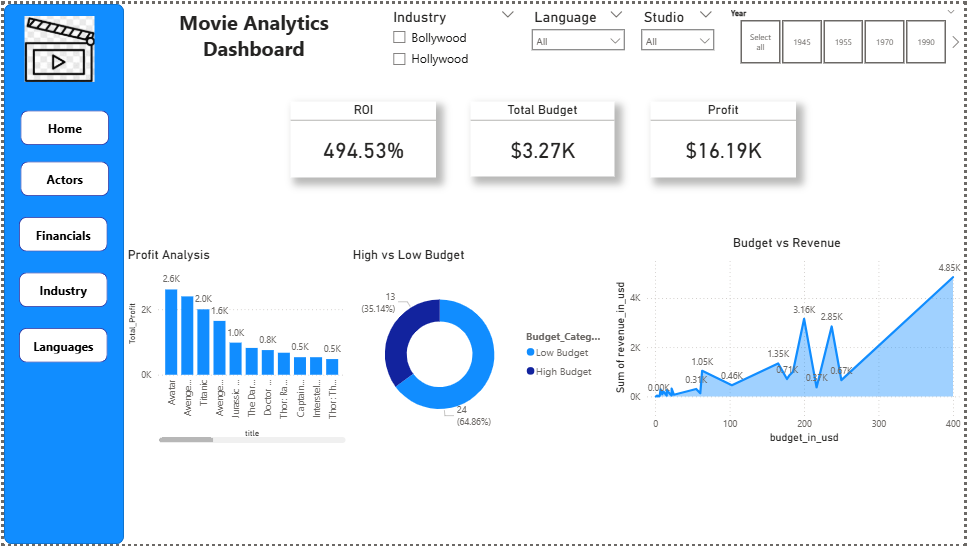

What the dashboard file says about the page in this screenshot:
{"tool":"powerbi","page":{"name":"Financial Analysis","canvas":[1280,720],"ordinal":3},"visuals":[{"type":"shape","box":[0,0,160,720],"z":0},{"type":"stackedAreaChart","title":"Budget vs Revenue","fields":{"Y":["Sum(movie_db financials.revenue_in_usd)"],"Category":["movie_db financials.budget_in_usd"]},"box":[808,308,472,282],"z":1000},{"type":"clusteredColumnChart","title":"Profit Analysis","fields":{"Category":["movie_db movies.title"],"Y":["movie_db actors.Total_Profit"]},"box":[160,324,300,266],"z":2000},{"type":"donutChart","title":"High vs Low Budget","fields":{"Category":["movie_db movies.Budget_Category"],"Y":["CountNonNull(movie_db movies.movie_id)"]},"box":[460,324,348,266],"z":3000},{"type":"slicer","fields":{"Values":["movie_db movies.industry"]},"box":[506.7,0,186.7,103.3],"z":4000},{"type":"slicer","fields":{"Values":["movie_db languages.name"]},"box":[693.3,0,143.3,103.3],"z":5000},{"type":"slicer","fields":{"Values":["movie_db movies.studio"]},"box":[840,0,116.7,103.3],"z":6000},{"type":"slicer","fields":{"Values":["movie_db movies.Year_Group"]},"box":[956,0,324,86],"z":7000},{"type":"textbox","box":[160,0,346,104],"z":8000},{"type":"image","box":[10,16,128,88],"z":9000},{"type":"actionButton","title":"Financials","box":[22,142,118,46],"z":10000},{"type":"actionButton","title":"Financials","box":[22,210,118,46],"z":11000},{"type":"actionButton","title":"Financials","box":[20,284,118,46],"z":12000},{"type":"actionButton","title":"Financials","box":[20,358,118,46],"z":13000},{"type":"actionButton","title":"Financials","box":[20,432,118,46],"z":14000},{"type":"card","title":"ROI","fields":{"Values":["movie_db actors.ROI"]},"box":[382.1,129.5,194.2,101.1],"z":15000},{"type":"card","title":"Total Budget","fields":{"Values":["Sum(movie_db financials.budget_in_usd)"]},"box":[622,130,192,100],"z":16000},{"type":"card","title":"Profit","fields":{"Values":["movie_db actors.Total_Profit"]},"box":[862.1,129.5,194.2,101.1],"z":17000}]}

Visuals, with their boxes in screenshot pixels (x1, y1, x2, y2), scaled from the page's 1280x720 canvas onto the 967x547 screenshot:
shape: [x1=0, y1=0, x2=121, y2=546]
"Budget vs Revenue" stackedAreaChart: [x1=610, y1=234, x2=966, y2=448]
"Profit Analysis" clusteredColumnChart: [x1=121, y1=246, x2=348, y2=448]
"High vs Low Budget" donutChart: [x1=348, y1=246, x2=610, y2=448]
slicer - movie_db movies.industry: [x1=383, y1=0, x2=524, y2=78]
slicer - movie_db languages.name: [x1=524, y1=0, x2=632, y2=78]
slicer - movie_db movies.studio: [x1=635, y1=0, x2=723, y2=78]
slicer - movie_db movies.Year_Group: [x1=722, y1=0, x2=966, y2=65]
textbox: [x1=121, y1=0, x2=382, y2=79]
image: [x1=8, y1=12, x2=104, y2=79]
"Financials" actionButton: [x1=17, y1=108, x2=106, y2=143]
"Financials" actionButton: [x1=17, y1=160, x2=106, y2=194]
"Financials" actionButton: [x1=15, y1=216, x2=104, y2=251]
"Financials" actionButton: [x1=15, y1=272, x2=104, y2=307]
"Financials" actionButton: [x1=15, y1=328, x2=104, y2=363]
"ROI" card: [x1=289, y1=98, x2=435, y2=175]
"Total Budget" card: [x1=470, y1=99, x2=615, y2=175]
"Profit" card: [x1=651, y1=98, x2=798, y2=175]
